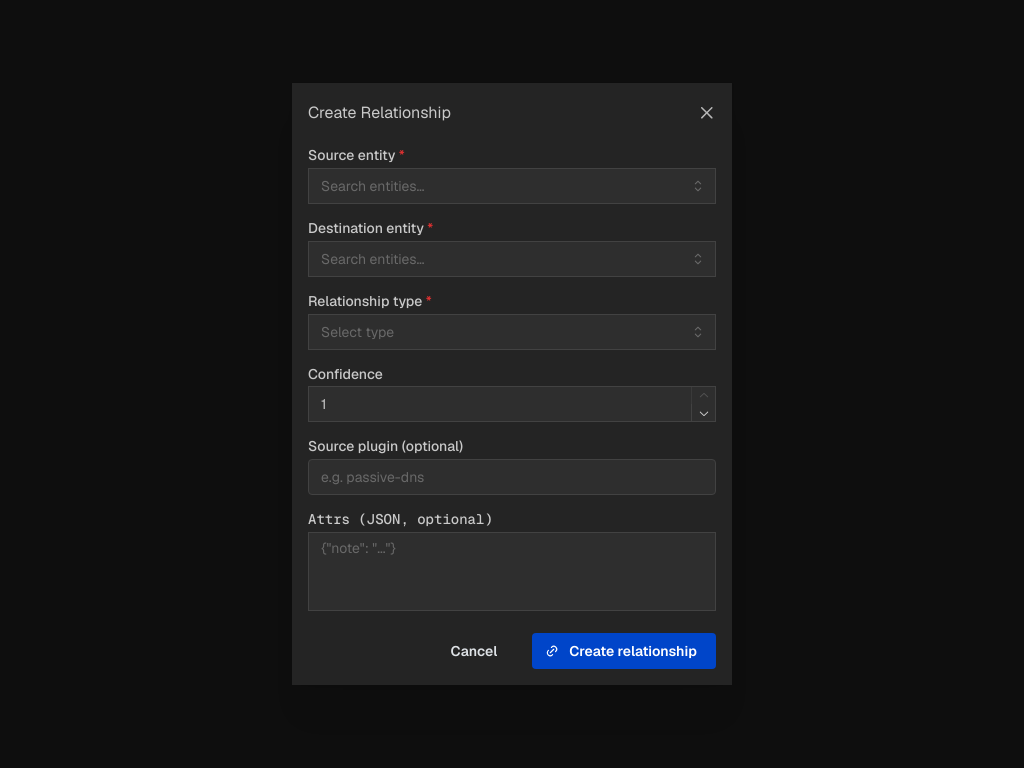
Test case: RelationshipCreateModal › shows validation errors when required selects are empty on submit
Click the button "Create relationship" at (624, 651), box [532,633,716,669]
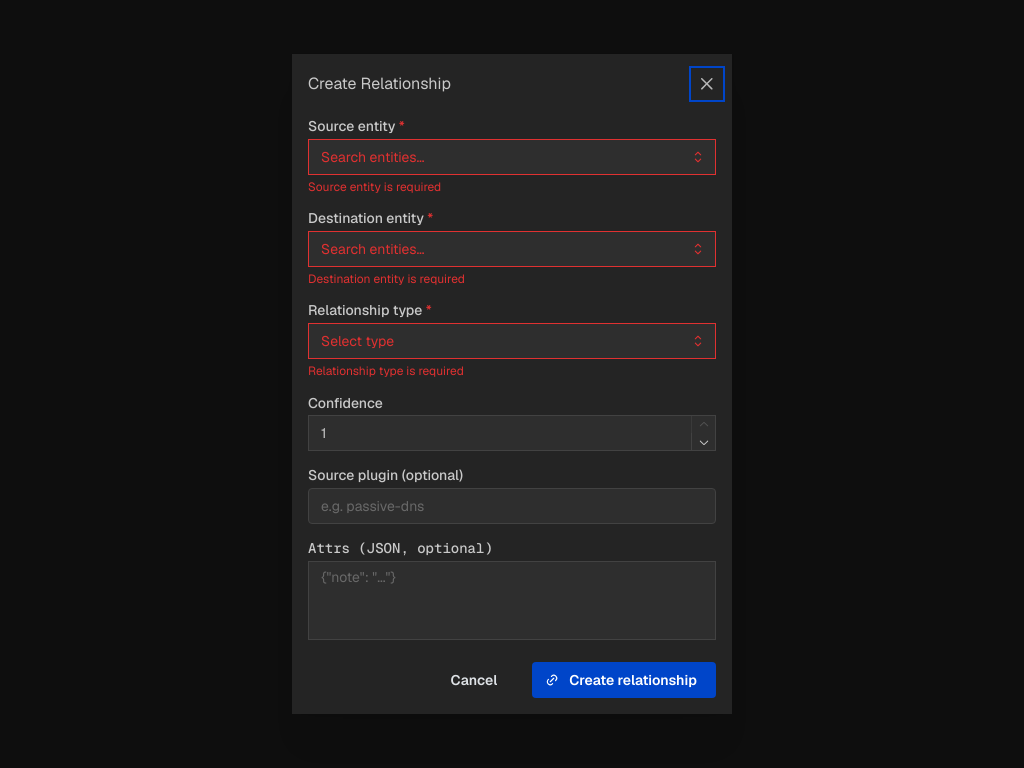
Check: the text "Source entity is required" is shown, box [308,179,441,195]
